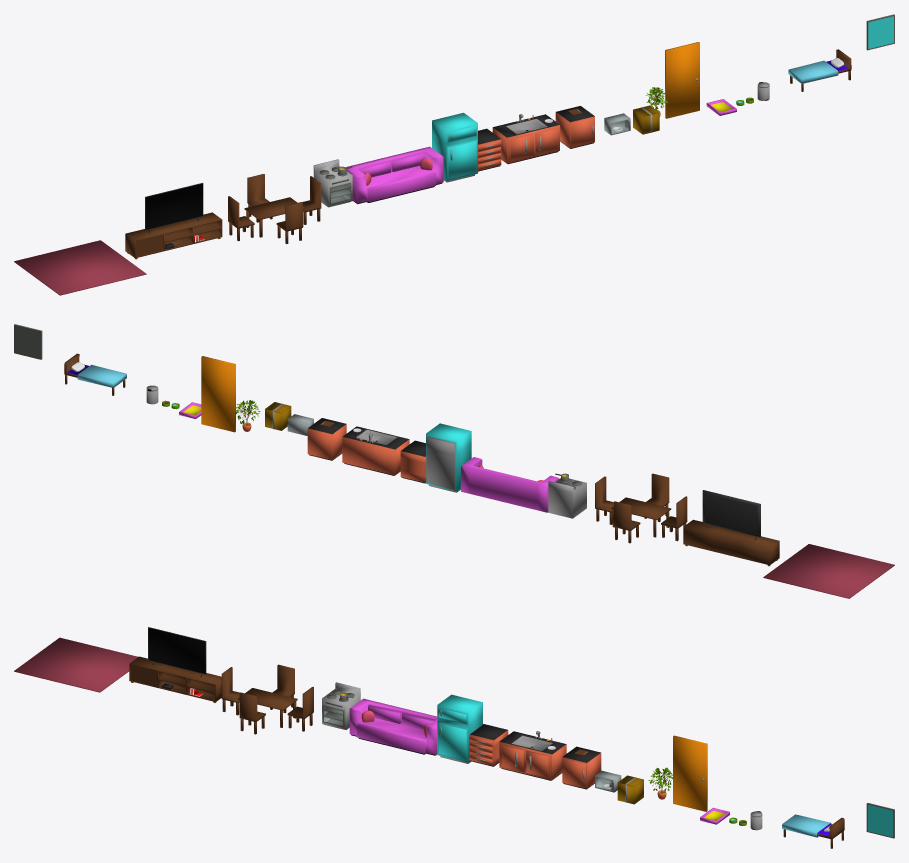
Rendered from CenarioTI3.fbx.
The picture shows the model from 3 angles, top to bottom: view 1: azimuth 30°, elevation 25°; view 2: azimuth 150°, elevation 25°; view 3: azimuth 330°, elevation 25°; orthographic projection.
Visible parts, largest first — view 1: Carpet, Sofa, Refrigerator, TV Furniture, Door, Kitchen Sink, TV, Stove, KitchenCountertop Variation, Cube, Kitchen Countertop, Cube.001 (+6 smaller); view 2: Carpet, Sofa, Refrigerator, TV Furniture, Door, Kitchen Sink, TV, Stove, KitchenCountertop Variation, Cube, Kitchen Countertop, Cube.001 (+6 smaller); view 3: Carpet, Sofa, Kitchen Sink, Refrigerator, Door, TV Furniture, TV, KitchenCountertop Variation, Stove, Kitchen Countertop, Cube, Cube.001 (+6 smaller).
Boxes of the visible parts, x1,y1,x2,y2 form: Carpet: (14,240,146,295); Sofa: (346,146,443,204); Refrigerator: (432,112,477,182); TV Furniture: (125,212,222,259); Door: (665,42,699,118); Kitchen Sink: (492,114,559,164); TV: (145,183,203,233); Stove: (313,159,352,207); KitchenCountertop Variation: (555,106,594,148); Cube: (788,49,851,91); Kitchen Countertop: (478,128,501,171); Cube.001: (866,14,894,50); Carpet: (763,544,894,598); Sofa: (461,457,559,512); Refrigerator: (426,423,471,492); TV Furniture: (683,519,779,566); Door: (201,356,235,432); Kitchen Sink: (342,426,409,475); TV: (702,490,760,540); Stove: (548,478,586,518); KitchenCountertop Variation: (307,418,346,460); Cube: (64,353,126,395); Kitchen Countertop: (400,440,426,483); Cube.001: (14,324,42,359); Carpet: (14,637,138,692); Sofa: (349,698,437,755); Kitchen Sink: (499,731,566,780); Refrigerator: (437,694,482,763); Door: (673,735,707,811); TV Furniture: (129,656,221,702); TV: (148,627,206,677); KitchenCountertop Variation: (562,746,601,789); Stove: (322,682,360,729); Kitchen Countertop: (469,724,508,766); Cube: (782,814,844,848); Cube.001: (866,803,894,838).
Size of the model in its own units: 4430 by 362 by 410.
